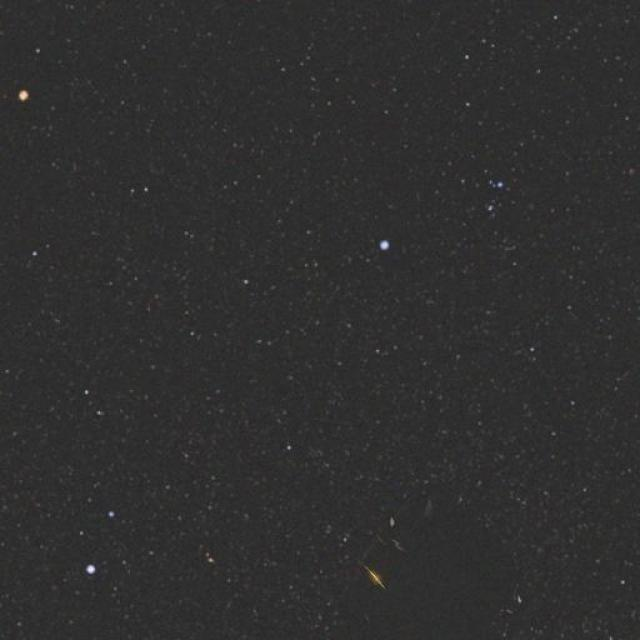earth_observation_sat_1: (308, 473, 560, 640)
